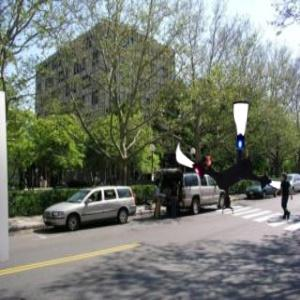drone: (173, 98, 293, 218)
